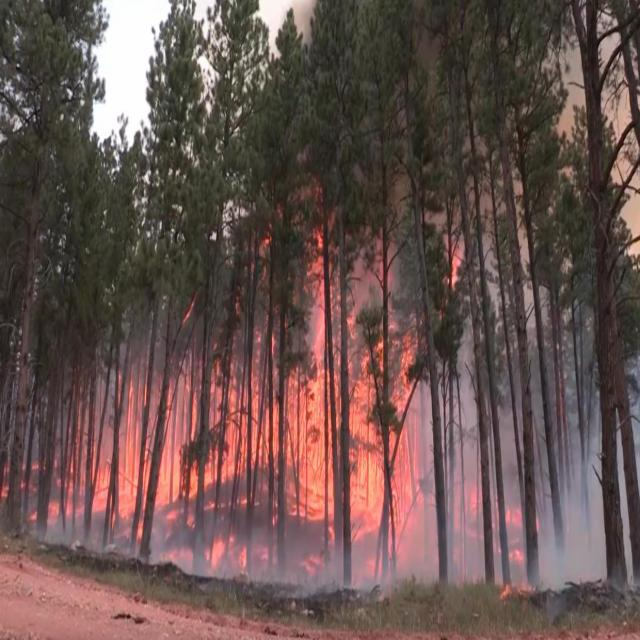fire: (59, 341, 421, 535)
